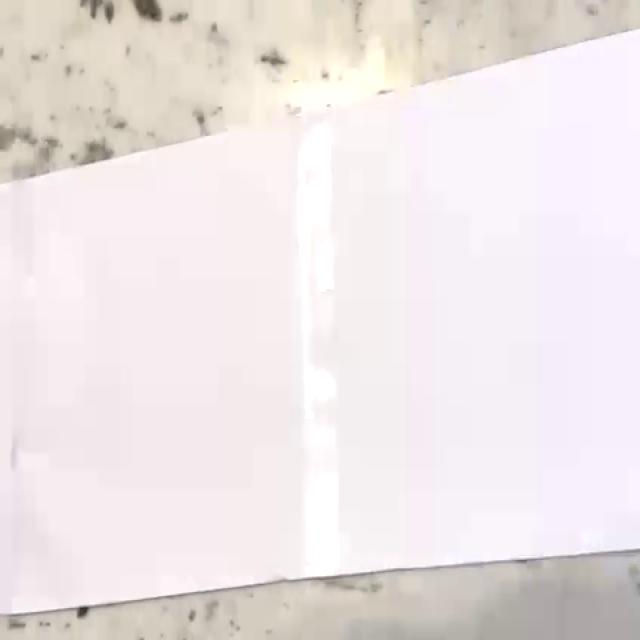road: (0, 29, 640, 615)
